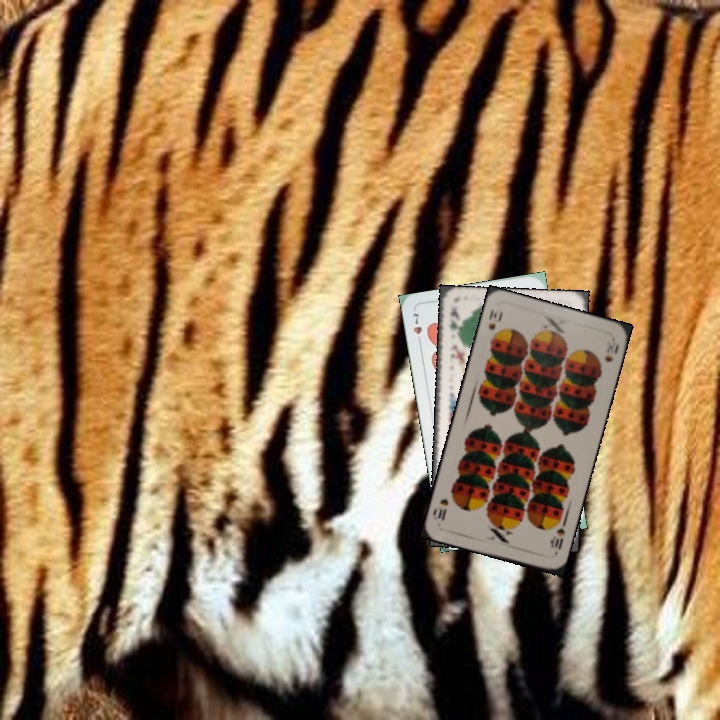GK: (445, 304, 462, 342)
H7: (409, 308, 424, 348)
S10: (484, 305, 506, 344), (546, 524, 568, 557)
